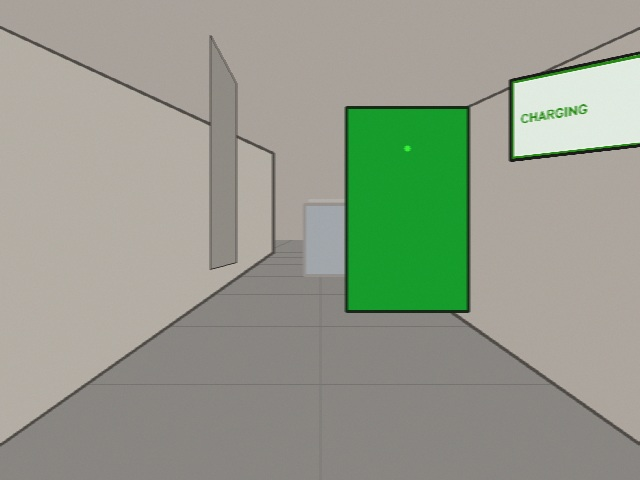charging_station: (346, 107, 468, 311)
directional_sign: (510, 37, 639, 160)
hospital_bed: (304, 204, 405, 275)
